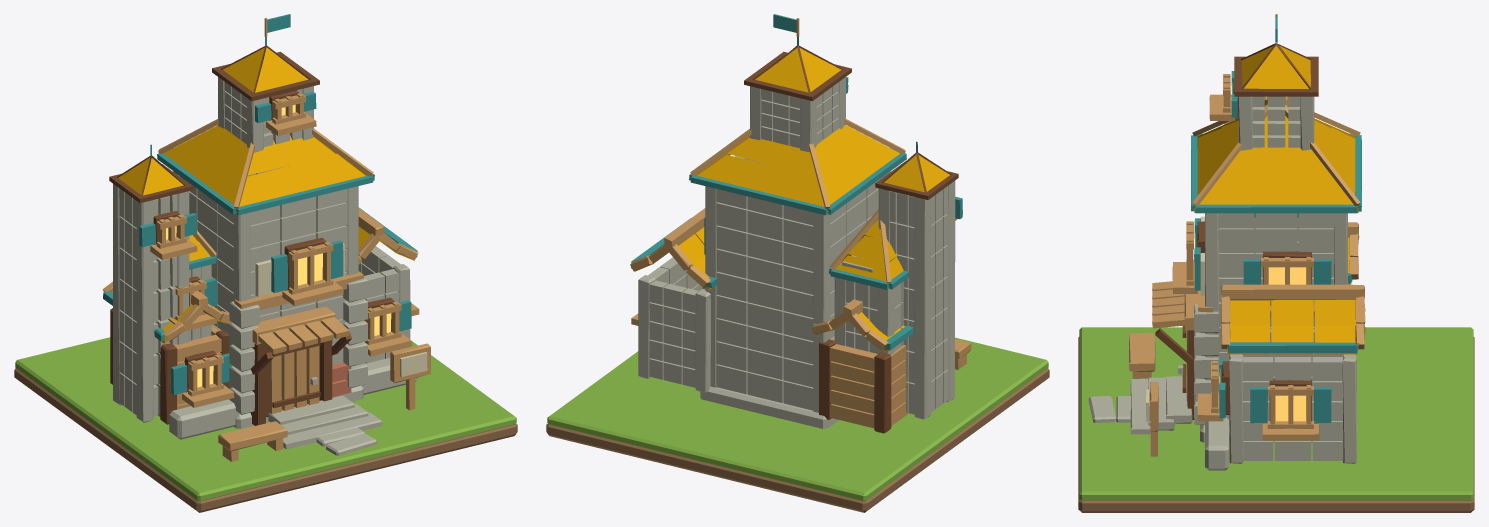
Rendered from town_hall_l07_active_LOD1.glb.
The picture shows the model from 3 angles, left to right: view 1: azimuth 30°, elevation 25°; view 2: azimuth 150°, elevation 25°; view 3: azimuth 270°, elevation 25°; orthographic projection. The views are drawn at different scales.
Parts seen in each view (by area): view 1: town_hall_l07_active_foundation.001, town_hall_l07_active_grass_tile.001, town_hall_l07_active_earth_tile.001, town_hall_l07_active_path_stone.005; view 2: town_hall_l07_active_foundation.001, town_hall_l07_active_grass_tile.001, town_hall_l07_active_earth_tile.001; view 3: town_hall_l07_active_foundation.001, town_hall_l07_active_grass_tile.001, town_hall_l07_active_earth_tile.001, town_hall_l07_active_path_stone.005.
Boxes of the visible parts, x1,y1,x2,y2 form: town_hall_l07_active_foundation.001: (102,14,430,461); town_hall_l07_active_grass_tile.001: (15,337,516,501); town_hall_l07_active_earth_tile.001: (14,368,517,512); town_hall_l07_active_path_stone.005: (326,433,376,455); town_hall_l07_active_foundation.001: (630,14,971,433); town_hall_l07_active_grass_tile.001: (547,337,1048,501); town_hall_l07_active_earth_tile.001: (546,368,1049,512); town_hall_l07_active_foundation.001: (1129,14,1365,470); town_hall_l07_active_grass_tile.001: (1079,327,1473,500); town_hall_l07_active_earth_tile.001: (1078,337,1474,512); town_hall_l07_active_path_stone.005: (1088,396,1116,422).
Size of the model in its own units: 3.6 by 4.17 by 3.6.
